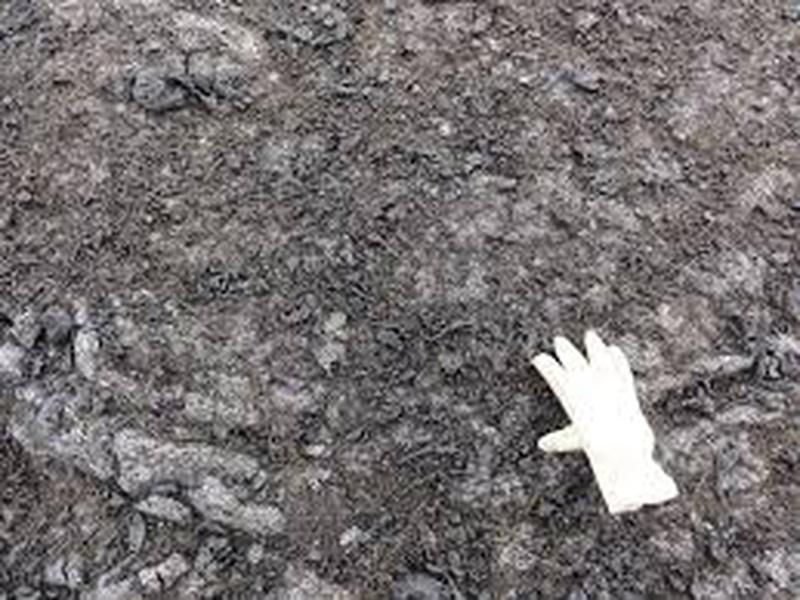gloves: (510, 328, 686, 517)
